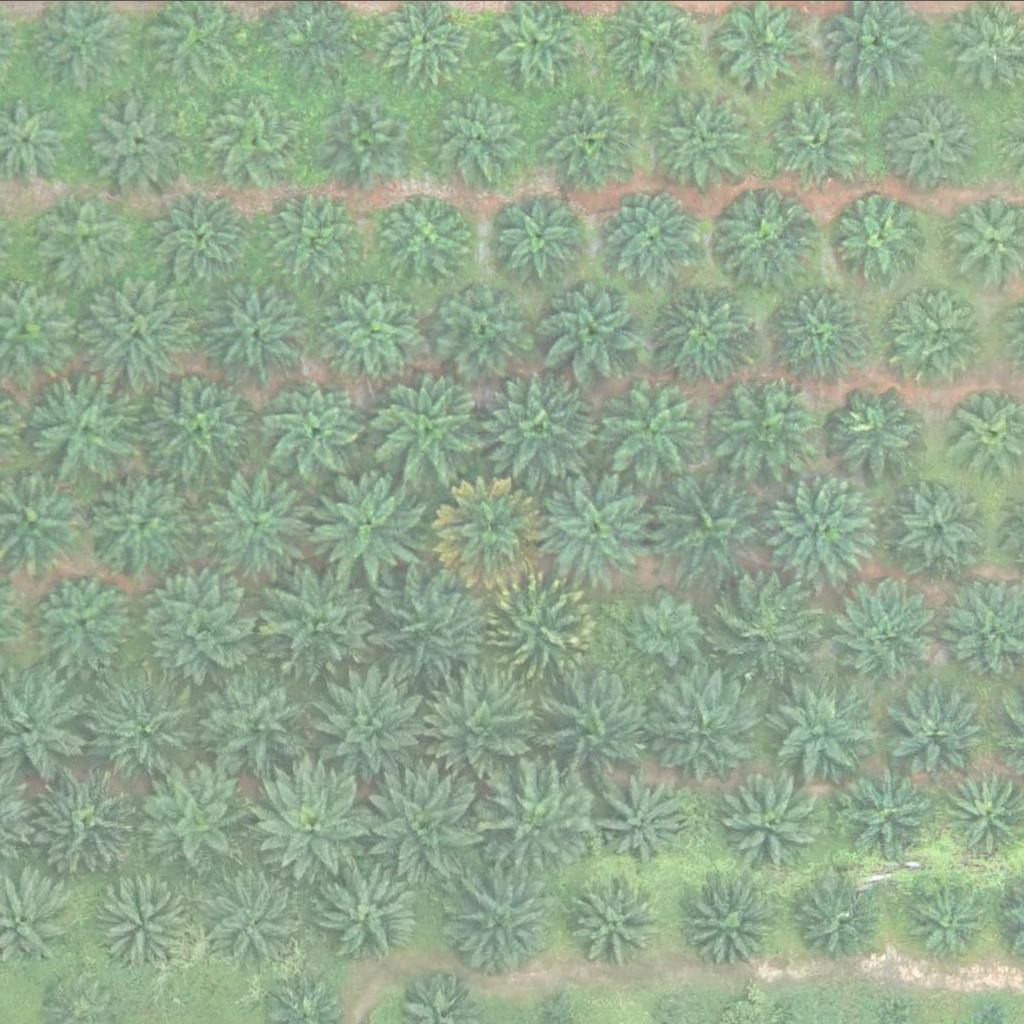Kelapa_Sawit: (774, 472, 888, 585), (443, 865, 557, 978), (31, 760, 144, 873), (87, 673, 200, 786), (202, 665, 315, 778), (142, 565, 255, 678), (256, 562, 369, 675), (374, 563, 487, 676), (29, 372, 142, 485), (81, 274, 194, 387), (201, 271, 314, 384), (602, 370, 715, 483), (435, 474, 548, 587), (484, 572, 597, 685), (536, 472, 649, 585), (654, 475, 767, 588), (371, 766, 485, 878), (541, 672, 655, 784), (644, 668, 758, 780), (477, 763, 591, 875), (140, 766, 253, 878), (261, 767, 374, 879), (313, 664, 426, 776), (88, 466, 201, 578), (207, 466, 320, 578), (313, 469, 426, 581), (147, 366, 260, 478), (371, 365, 484, 477), (484, 372, 597, 484), (428, 675, 541, 787), (94, 872, 195, 972), (33, 567, 134, 667), (267, 377, 368, 477), (262, 185, 363, 285), (425, 84, 526, 184), (542, 87, 643, 187), (651, 88, 752, 188), (768, 89, 869, 189), (884, 91, 985, 191), (602, 188, 703, 288), (715, 183, 816, 283), (433, 278, 534, 378), (542, 280, 643, 380), (658, 282, 759, 382), (768, 280, 869, 380), (712, 372, 813, 472), (773, 681, 874, 781), (722, 772, 823, 872), (834, 764, 935, 864), (208, 862, 308, 962), (321, 860, 421, 960), (35, 189, 135, 289), (83, 91, 183, 191), (824, 383, 924, 483), (717, 576, 817, 676), (838, 583, 938, 683), (903, 872, 992, 960), (206, 96, 294, 184), (325, 93, 413, 181), (839, 193, 927, 281), (897, 487, 985, 575), (795, 875, 883, 963), (331, 285, 419, 372), (155, 190, 243, 277), (384, 194, 472, 281), (499, 191, 587, 278), (898, 288, 986, 375), (899, 687, 987, 774), (600, 775, 688, 862), (567, 875, 655, 962), (689, 882, 777, 969), (628, 592, 704, 667), (544, 993, 569, 1018), (774, 997, 799, 1022)
